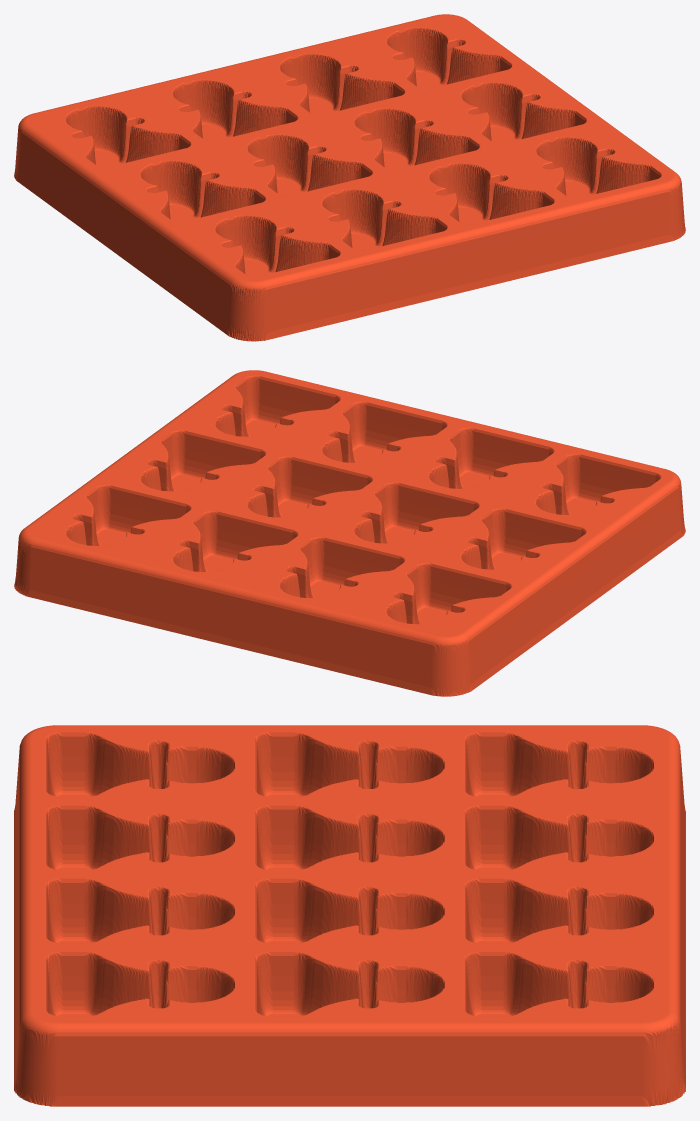
The model's file is mold.glb.
3 renders of one model, top to bottom at view 1: azimuth 30°, elevation 25°; view 2: azimuth 150°, elevation 25°; view 3: azimuth 270°, elevation 25°, orthographic. The views are drawn at different scales.
Visible parts, largest first — view 1: geometry_0; view 2: geometry_0; view 3: geometry_0.
Part boxes in pixels (x1,y1,x2,y2): geometry_0: (14, 14, 685, 341); geometry_0: (14, 370, 685, 696); geometry_0: (14, 725, 685, 1106).
Size of the model in its own units: 0.1521 by 0.0175 by 0.1389.
